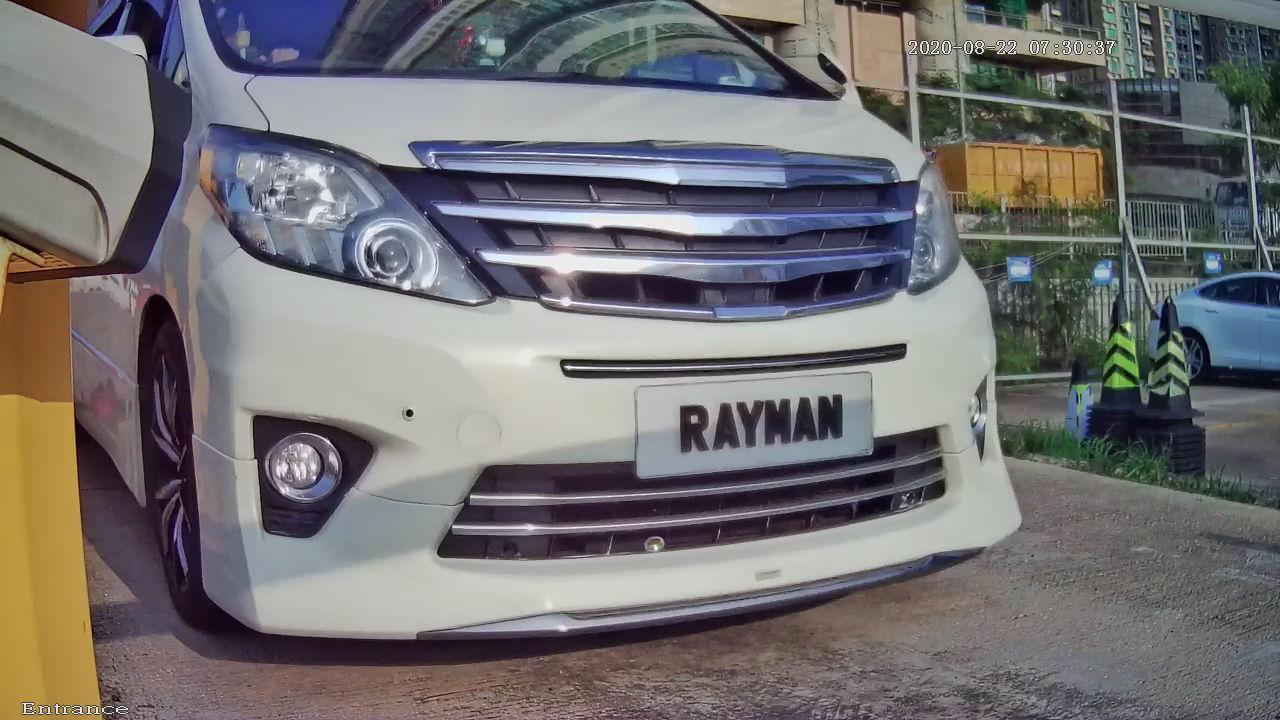Car: (23, 10, 1115, 669)
License Plate: (635, 364, 886, 486)
